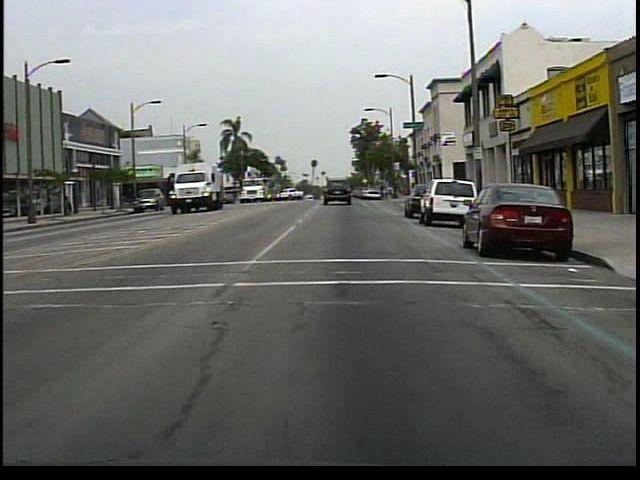person: (66, 193, 75, 218)
